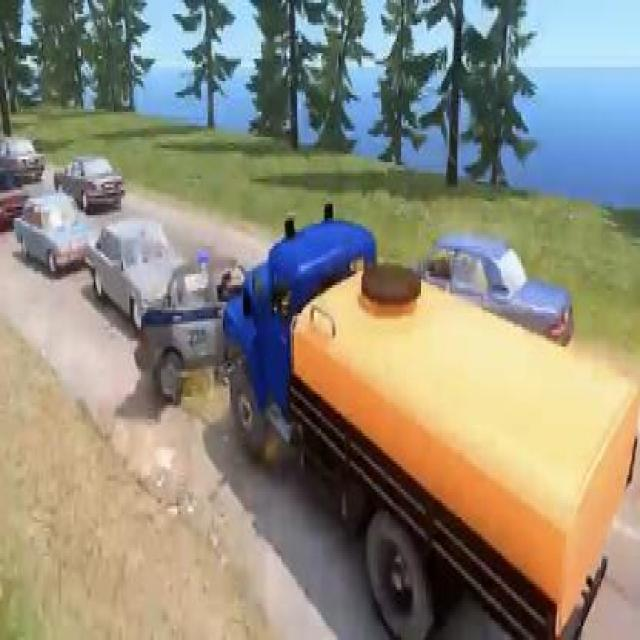accident: (87, 182, 638, 637)
